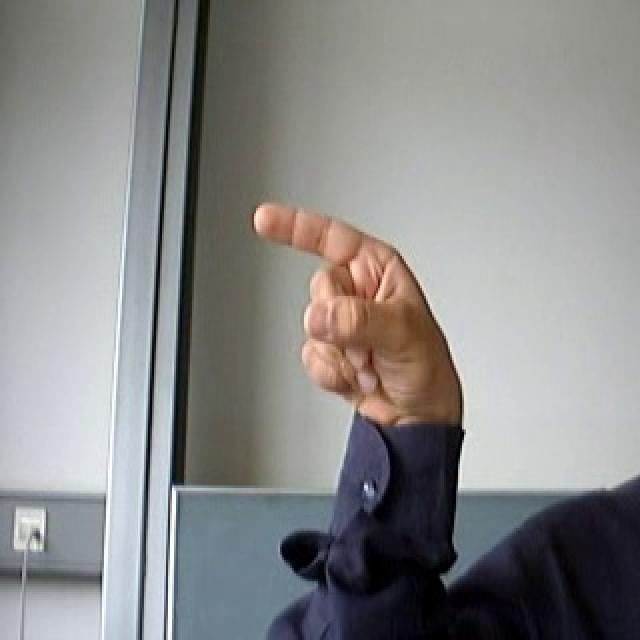P: (246, 184, 474, 431)
